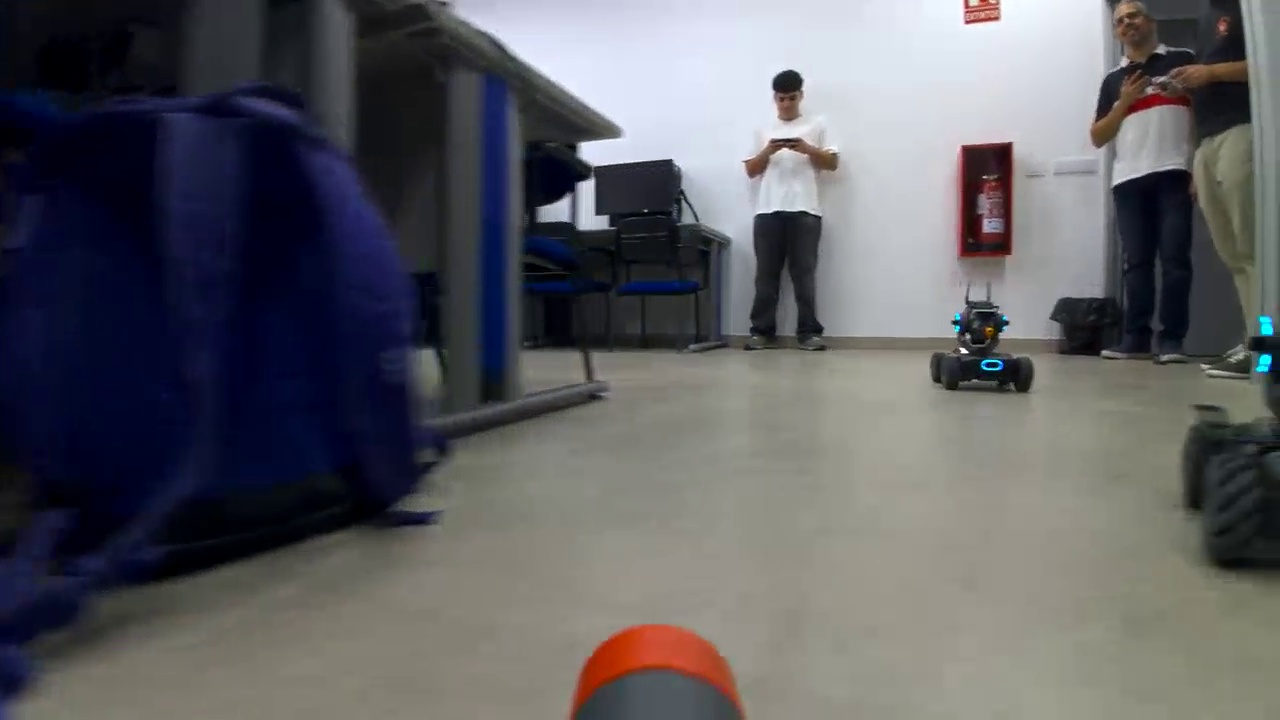robot: (1169, 306, 1280, 587), (922, 288, 1050, 400)
